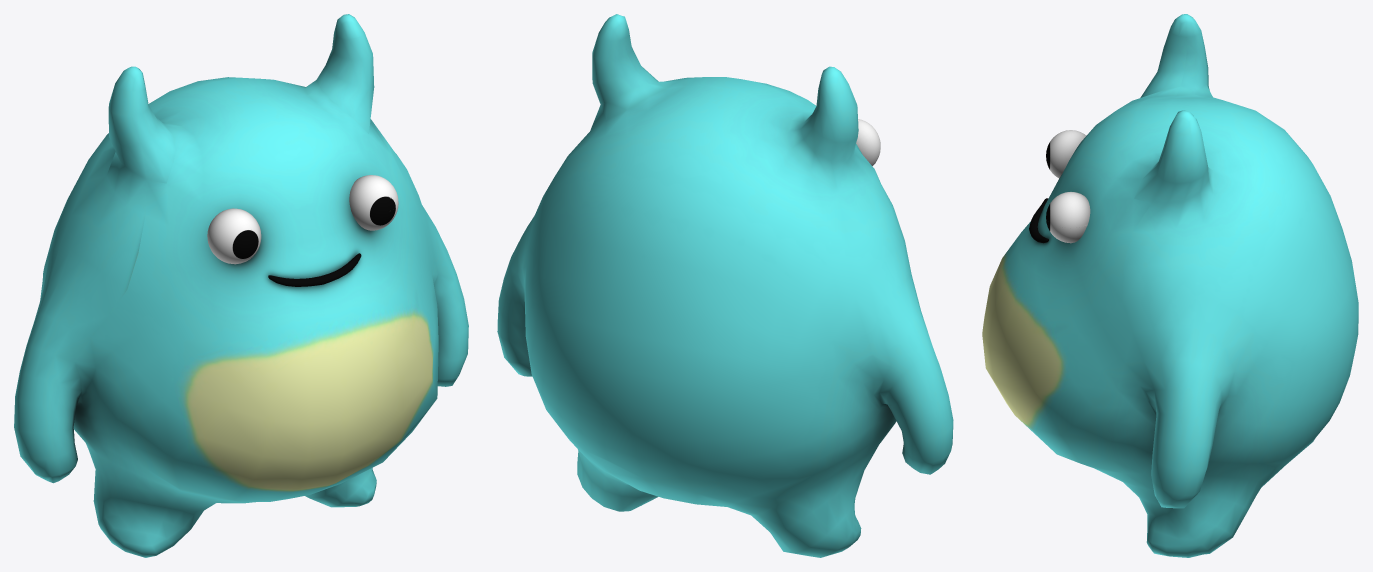
Rendered from uploads_files_6090113_CuteBlueMonster.obj.
3 renders of one model, left to right at view 1: azimuth 30°, elevation 25°; view 2: azimuth 150°, elevation 25°; view 3: azimuth 270°, elevation 25°, orthographic. The views are drawn at different scales.
Visible parts, largest first — view 1: CuteMonster; view 2: CuteMonster; view 3: CuteMonster.
Part boxes in pixels (bbox=[...]): CuteMonster: bbox=[14, 14, 468, 557]; CuteMonster: bbox=[497, 14, 953, 557]; CuteMonster: bbox=[982, 14, 1358, 557].
Size of the model in its own units: 1.91 by 1.96 by 1.51.
